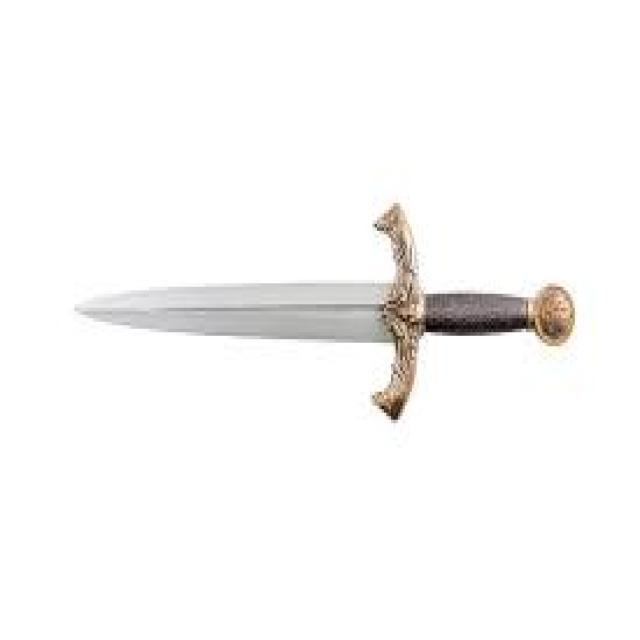Gun: (60, 192, 588, 430)
